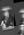potion: (0, 0, 14, 26), (14, 3, 24, 26), (14, 26, 24, 35)
